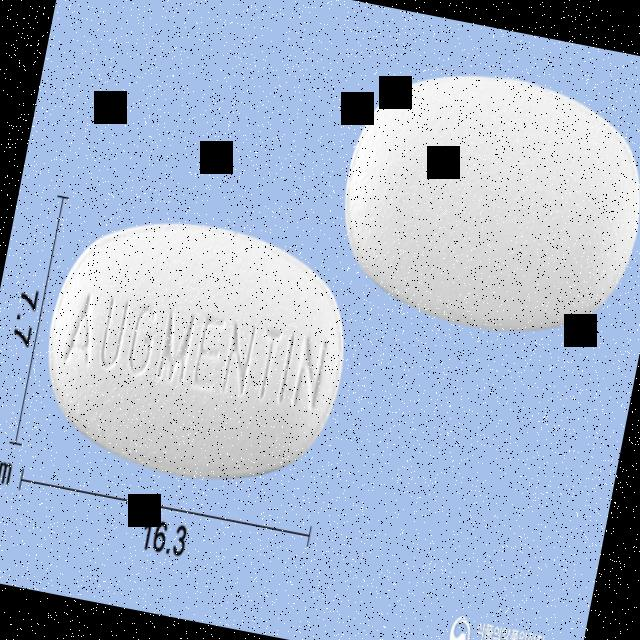Augmentin: (26, 198, 366, 506)
